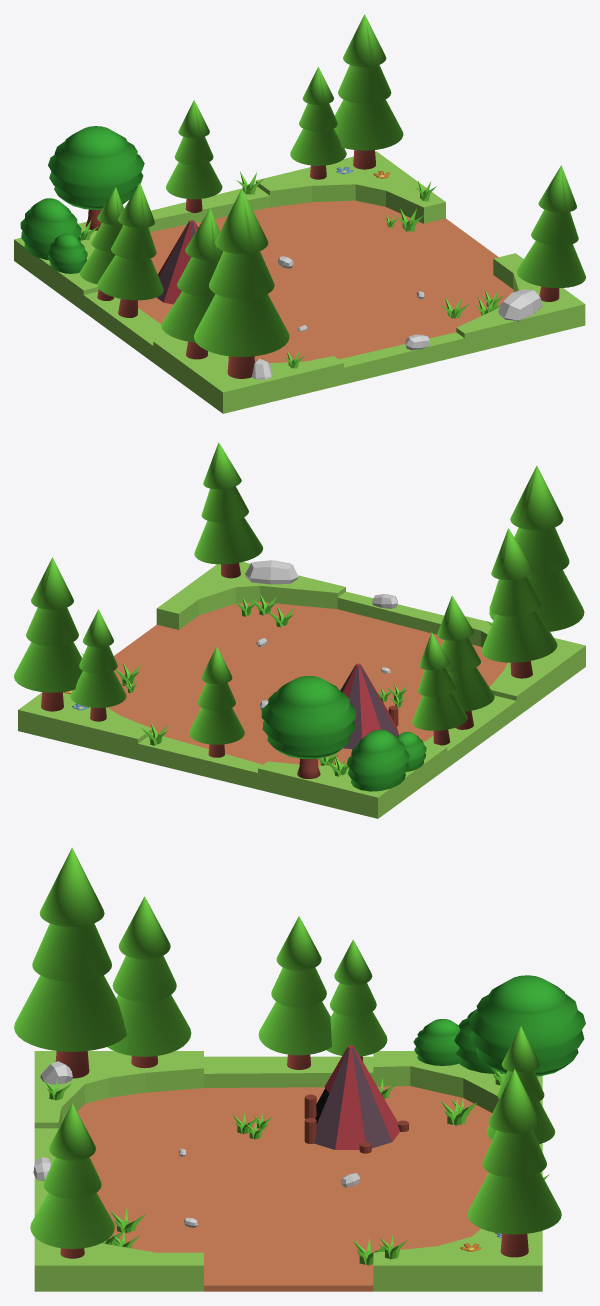
The model's file is jungle level set - 1 Way (4).fbx.
3 renders of one model, top to bottom at view 1: azimuth 30°, elevation 25°; view 2: azimuth 150°, elevation 25°; view 3: azimuth 270°, elevation 25°, orthographic. The views are drawn at different scales.
Visible parts, largest first — view 1: land_platform_001, tree_006, tree_004, tree_001, tree_000, tree_007, tree_005, tree_008, tree_002, bush_003, tree_003, camp (+2 smaller); view 2: land_platform_001, tree_004, tree_005, tree_001, tree_006, tree_000, tree_007, tree_002, tree_008, tree_003, bush_003, camp (+2 smaller); view 3: land_platform_001, tree_006, tree_001, tree_005, tree_004, tree_000, tree_007, camp, tree_003, tree_008, bush_001, bush_003 (+1 smaller).
Boxes of the visible parts, x1=… form: land_platform_001: x1=14, y1=151, x2=585, y2=413; tree_006: x1=194, y1=189, x2=289, y2=378; tree_004: x1=48, y1=126, x2=144, y2=230; tree_001: x1=334, y1=14, x2=403, y2=169; tree_000: x1=516, y1=165, x2=585, y2=301; tree_007: x1=97, y1=183, x2=163, y2=317; tree_005: x1=161, y1=208, x2=223, y2=359; tree_008: x1=166, y1=100, x2=222, y2=212; tree_002: x1=290, y1=67, x2=346, y2=179; bush_003: x1=20, y1=198, x2=81, y2=259; tree_003: x1=79, y1=187, x2=123, y2=300; camp: x1=157, y1=220, x2=198, y2=304; land_platform_001: x1=18, y1=562, x2=585, y2=818; tree_004: x1=261, y1=676, x2=356, y2=778; tree_005: x1=481, y1=528, x2=557, y2=678; tree_001: x1=14, y1=557, x2=82, y2=711; tree_006: x1=489, y1=465, x2=584, y2=631; tree_000: x1=194, y1=442, x2=262, y2=578; tree_007: x1=437, y1=595, x2=494, y2=729; tree_002: x1=70, y1=609, x2=126, y2=721; tree_008: x1=189, y1=646, x2=244, y2=757; tree_003: x1=412, y1=632, x2=467, y2=745; bush_003: x1=347, y1=729, x2=409, y2=791; camp: x1=340, y1=663, x2=398, y2=749; land_platform_001: x1=34, y1=1051, x2=542, y2=1291; tree_006: x1=14, y1=847, x2=126, y2=1078; tree_001: x1=467, y1=1069, x2=561, y2=1257; tree_005: x1=107, y1=896, x2=191, y2=1068; tree_004: x1=468, y1=975, x2=585, y2=1076; tree_000: x1=30, y1=1103, x2=114, y2=1258; tree_007: x1=258, y1=916, x2=331, y2=1069; camp: x1=304, y1=1045, x2=408, y2=1153; tree_003: x1=326, y1=939, x2=387, y2=1061; tree_008: x1=486, y1=1026, x2=554, y2=1144; bush_001: x1=413, y1=1019, x2=461, y2=1065; bush_003: x1=454, y1=1009, x2=502, y2=1073.
Bounding box in the file's own units: 16.19 × 8.27 × 17.09.
